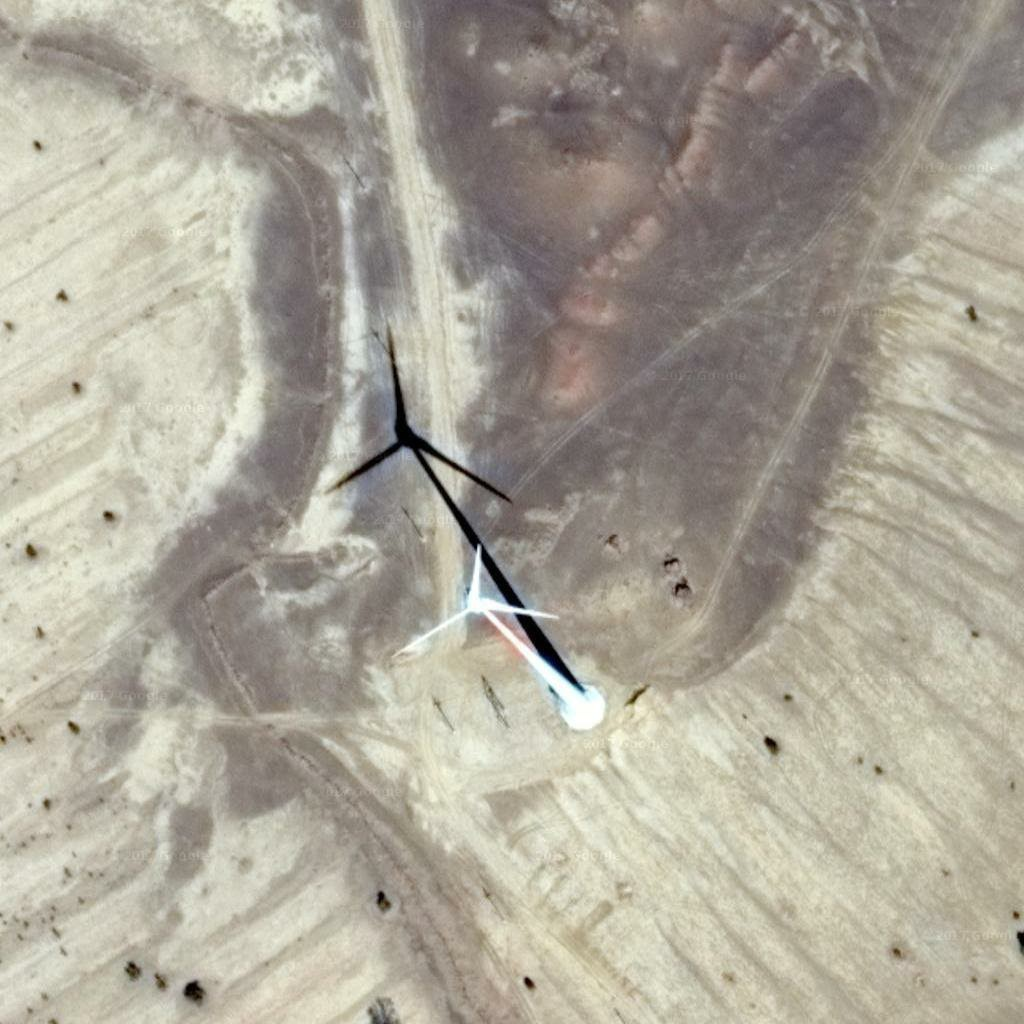Windmill: (307, 326, 595, 686)
